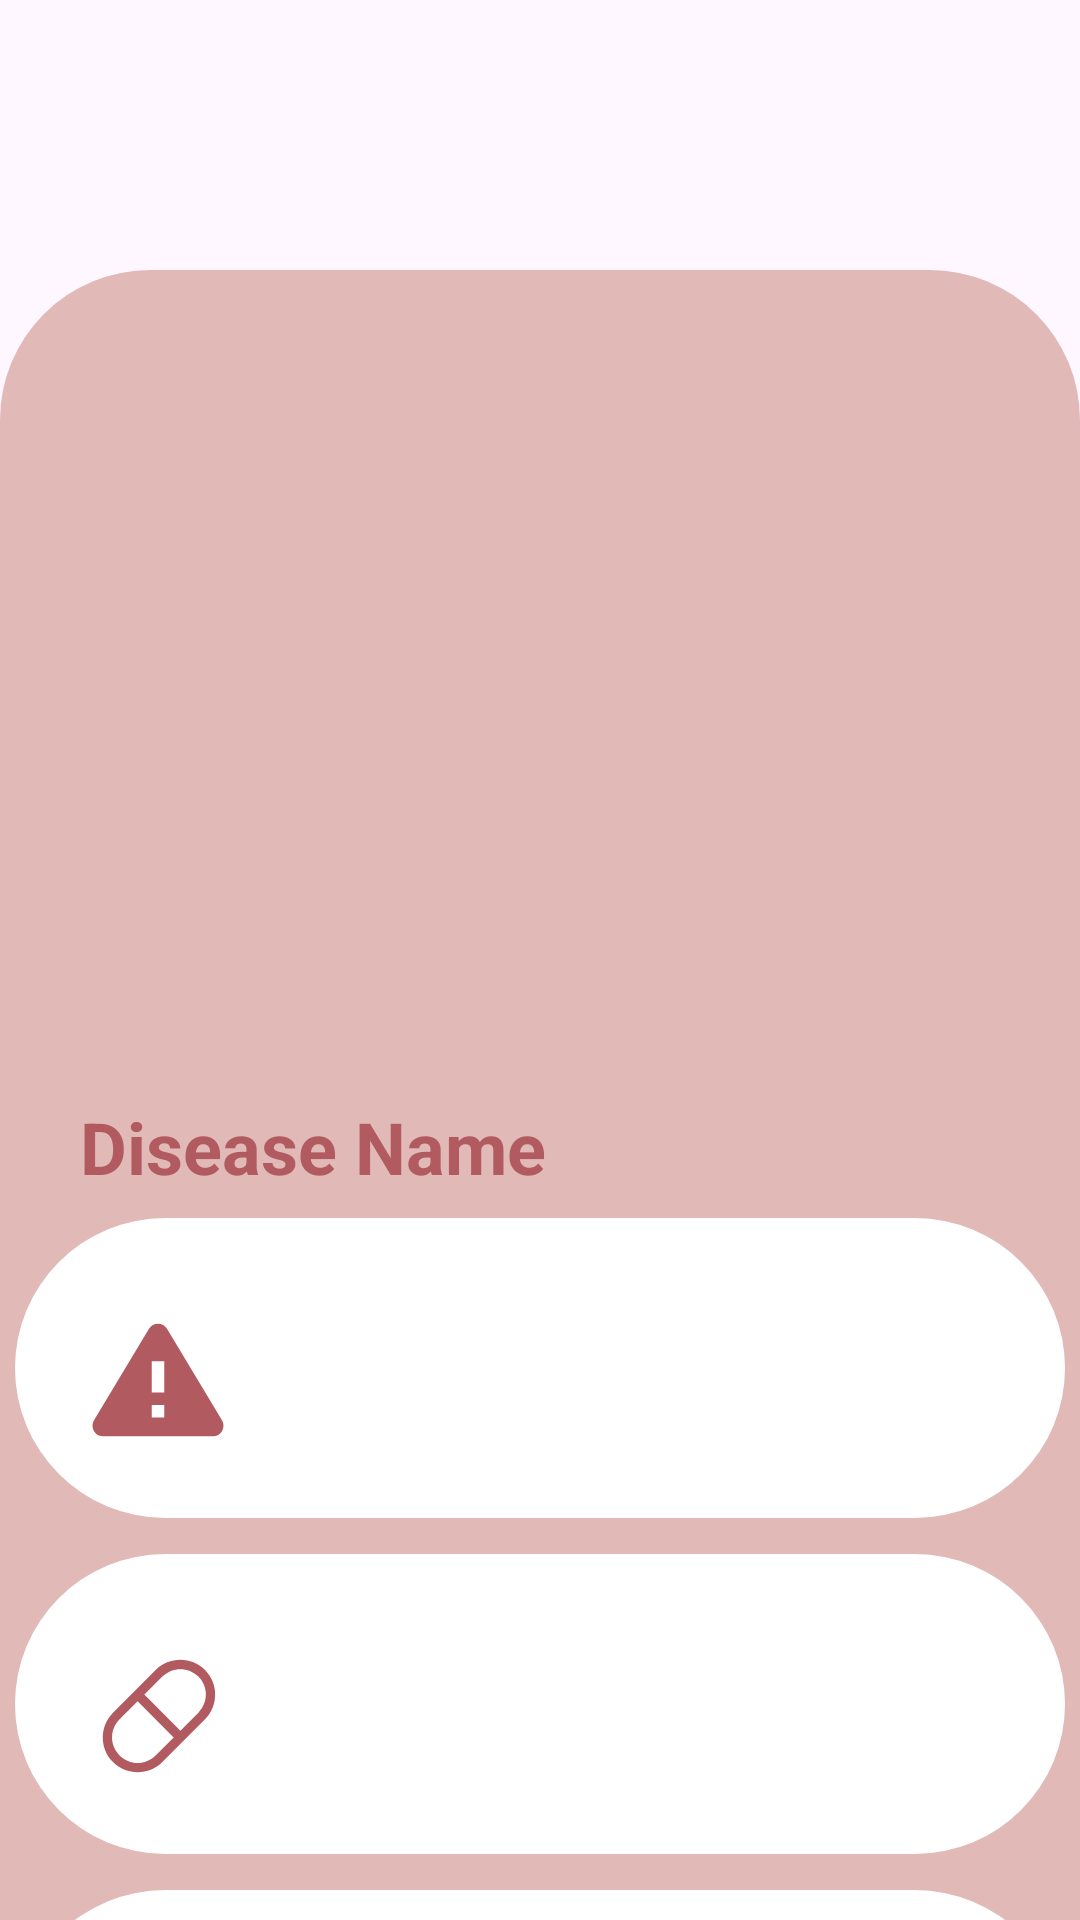

Where to tap for icons on this 1080w x 1920h app screen, as point (x, y):
cause: point (158, 1380)
cure: point (158, 1716)
